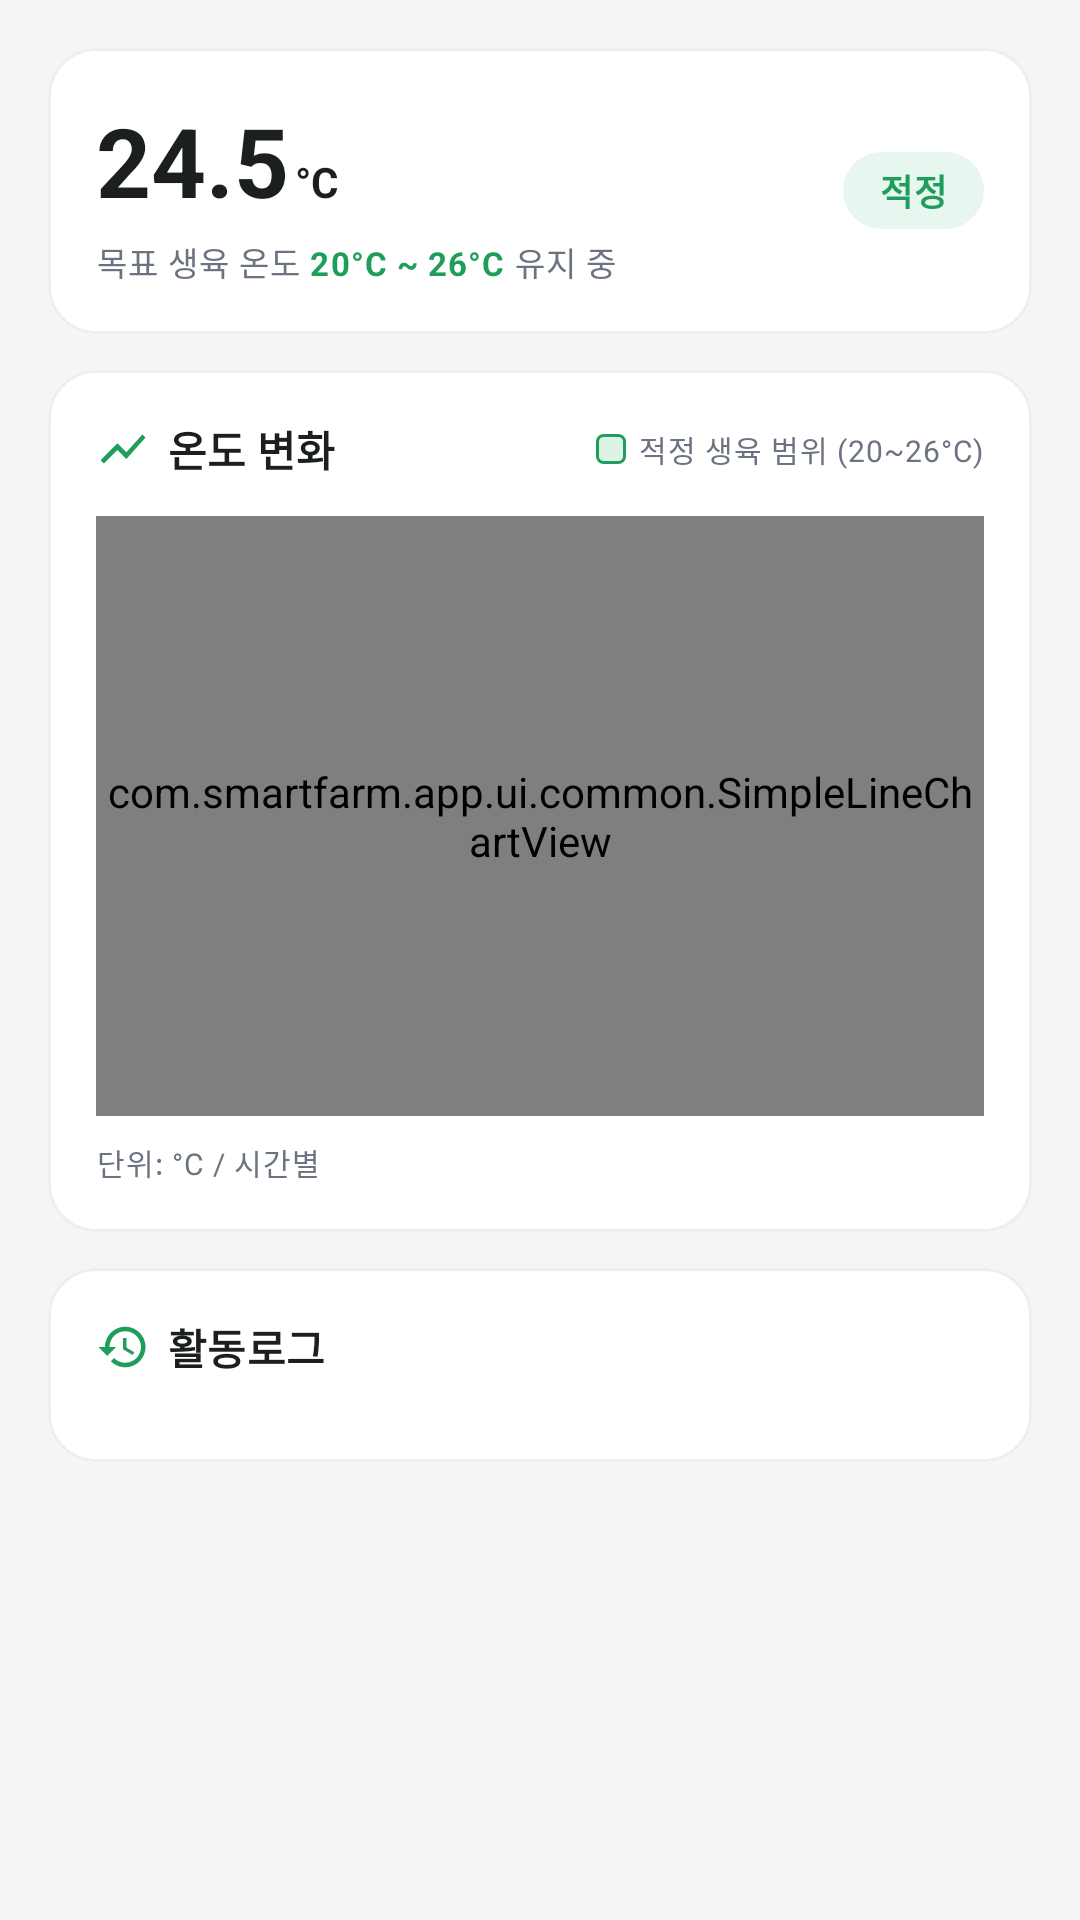

Point at icon controls on the screen. Image size 1080 × 1920, points as point (x, y).
history: point (122, 1347)
trending: point (123, 449)
